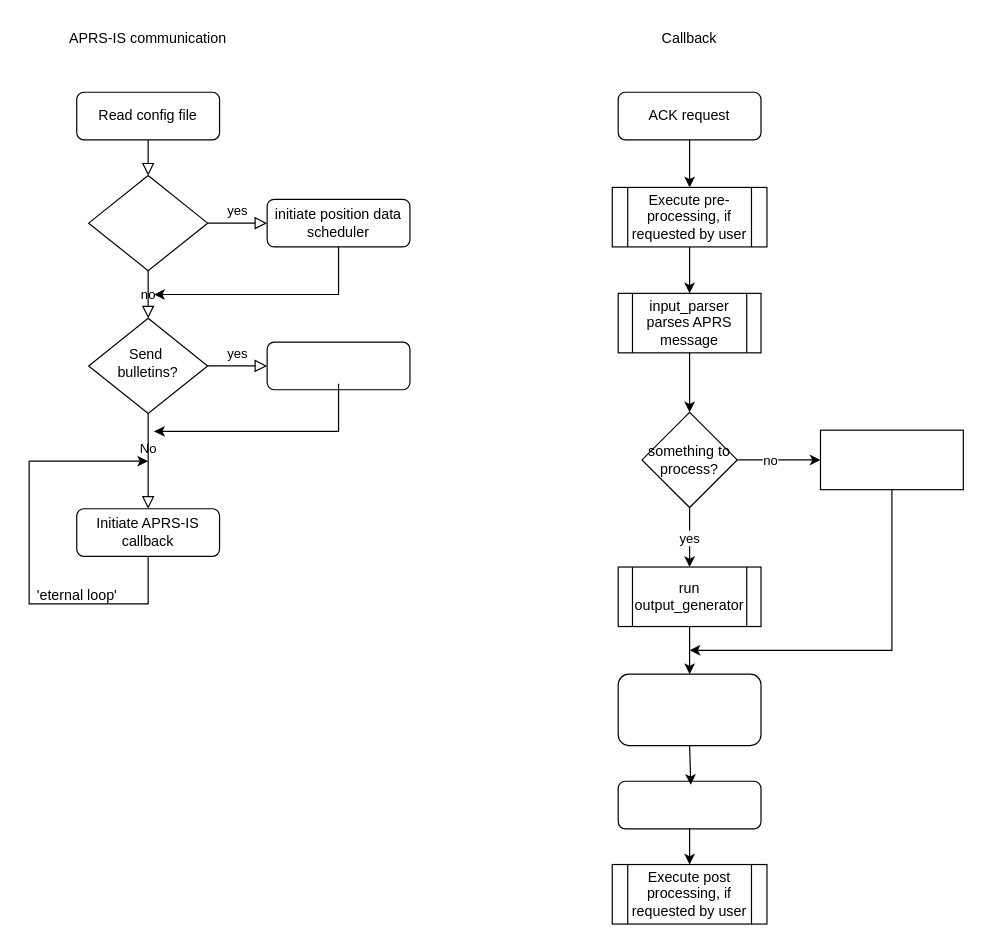
Some shapes in this 984 by 945 pixel diagram are drawn without their labels. Each missing label, with the box of its shape:
generate error message for user: (819, 429, 963, 490)
Increment msg #: (617, 780, 761, 829)
initiate bulletin scheduler: (266, 341, 410, 390)
Send APRS message to user: (617, 673, 761, 746)
Send position data?: (87, 174, 208, 271)
